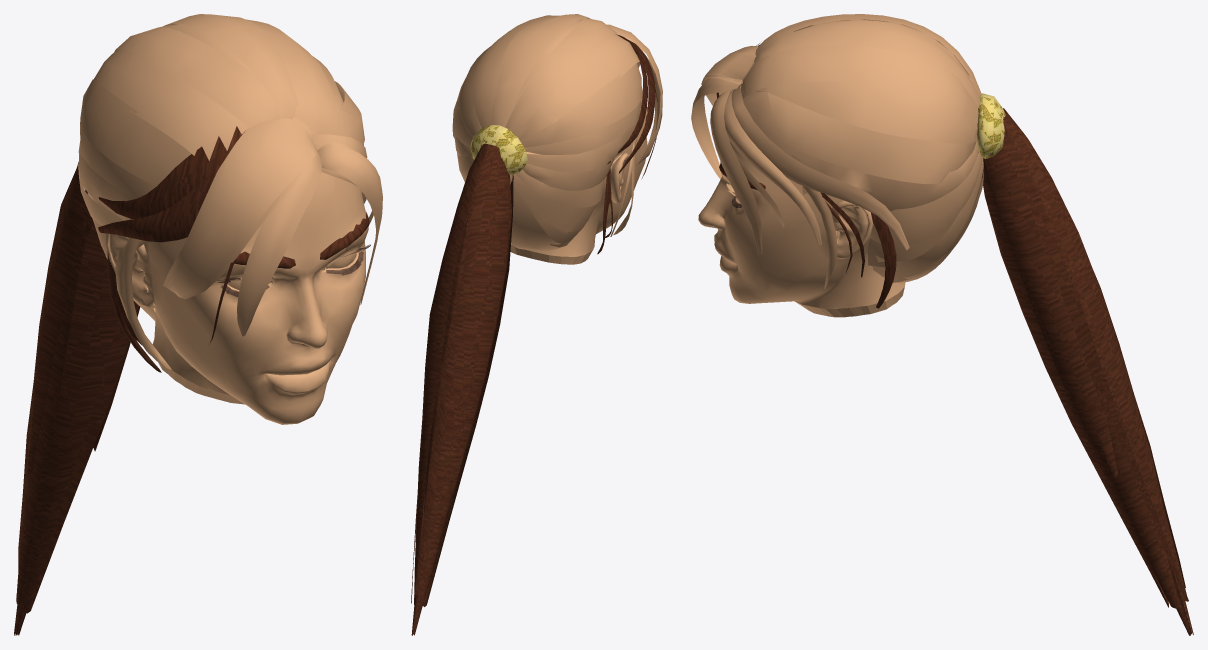
Rendered from headcopy.obj.
3 views of the same model, side by side, from view 1: azimuth 30°, elevation 25°; view 2: azimuth 150°, elevation 25°; view 3: azimuth 270°, elevation 25° (orthographic). The views are drawn at different scales.
Parts seen in each view (by area): view 1: Mesh1 Model, Mesh8 Model, Mesh24 Model, Mesh7 Model, Mesh22 Model, Mesh18 Model, Mesh64 Model, Mesh9 Model, Mesh41 Model, Mesh29 Model, Mesh45 Model, Mesh38 Model (+7 smaller); view 2: Mesh35 Model, Mesh8 Model, Mesh1 Model, Mesh64 Model, Mesh7 Model, Mesh22 Model, Mesh18 Model, Mesh29 Model, Mesh24 Model, Mesh41 Model, Mesh25 Model, Mesh17 Model (+9 smaller); view 3: Mesh1 Model, Mesh35 Model, Mesh24 Model, Mesh30 Model, Mesh37 Model, Mesh31 Model, Mesh33 Model, Mesh29 Model, Mesh8 Model, Mesh15 Model, Mesh23 Model, Mesh20 Model (+8 smaller).
Part boxes in pixels (box(x1,y1,x2,y2)): Mesh1 Model: box(78, 163, 369, 424); Mesh8 Model: box(23, 124, 165, 613); Mesh24 Model: box(163, 19, 337, 299); Mesh7 Model: box(93, 49, 247, 160); Mesh22 Model: box(114, 27, 280, 127); Mesh18 Model: box(80, 79, 191, 186); Mesh64 Model: box(27, 161, 89, 474); Mesh9 Model: box(237, 139, 322, 336); Mesh41 Model: box(16, 214, 93, 604); Mesh29 Model: box(163, 14, 298, 119); Mesh45 Model: box(98, 126, 241, 218); Mesh38 Model: box(98, 130, 245, 242); Mesh35 Model: box(411, 144, 498, 607); Mesh8 Model: box(423, 100, 641, 606); Mesh1 Model: box(510, 86, 647, 264); Mesh64 Model: box(451, 147, 511, 492); Mesh7 Model: box(516, 33, 639, 140); Mesh22 Model: box(505, 18, 616, 135); Mesh18 Model: box(520, 63, 641, 147); Mesh29 Model: box(491, 14, 590, 127); Mesh24 Model: box(472, 15, 662, 165); Mesh41 Model: box(420, 176, 498, 607); Mesh25 Model: box(510, 174, 596, 232); Mesh17 Model: box(510, 179, 561, 250); Mesh1 Model: box(698, 141, 905, 317); Mesh35 Model: box(1003, 109, 1188, 601); Mesh24 Model: box(701, 46, 978, 124); Mesh30 Model: box(743, 89, 976, 183); Mesh37 Model: box(985, 144, 1117, 478); Mesh31 Model: box(755, 81, 977, 144); Mesh33 Model: box(984, 117, 1178, 608); Mesh29 Model: box(754, 20, 980, 108); Mesh8 Model: box(978, 152, 1168, 607); Mesh15 Model: box(867, 150, 982, 267); Mesh23 Model: box(763, 132, 978, 210); Mesh20 Model: box(731, 80, 909, 250).
Bounding box in the file's own units: 6.61 × 20.42 × 15.21.
Materials: 5 (3 with a texture image).
